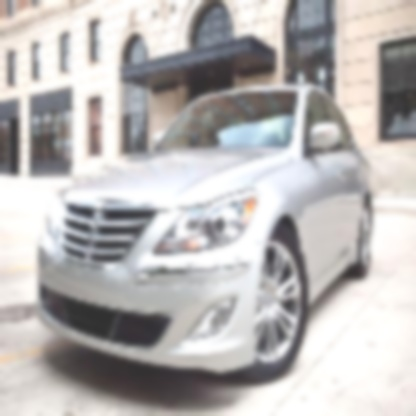Vehicle: (32, 80, 374, 388)
